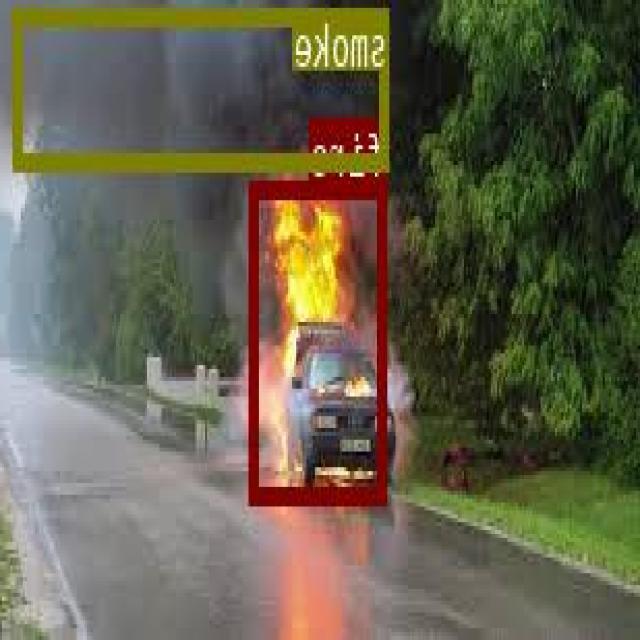fire: (251, 179, 388, 502)
smoke: (16, 6, 390, 168)
